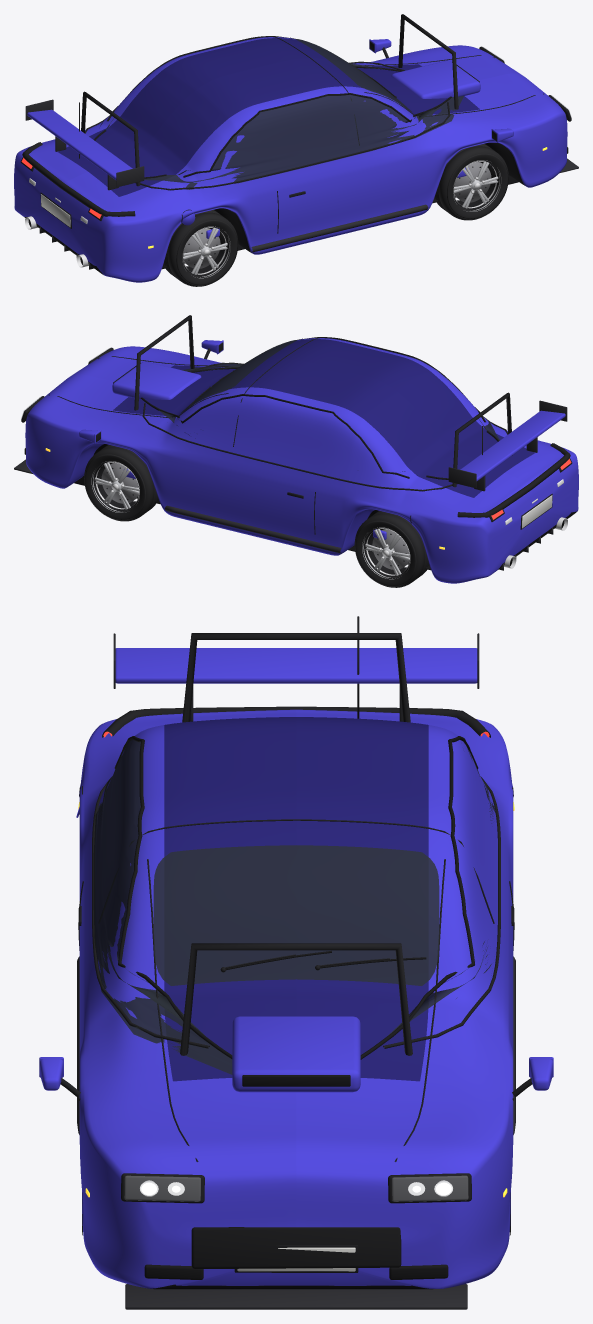
The picture shows the model from 3 angles, top to bottom: view 1: azimuth 30°, elevation 25°; view 2: azimuth 150°, elevation 25°; view 3: azimuth 270°, elevation 25°; orthographic projection. The views are drawn at different scales.
Visible parts, largest first — view 1: body, glass_side_R, wheel_FR_tyre, wheel_RR_tyre, bonnet_scoop, wing, side_skirt, glass_screen_0, tail_housing, roll_cage.001, belt_trim, seal_R (+8 smaller); view 2: body, wheel_RL_tyre, wheel_FL_tyre, bonnet_scoop, wing, side_skirt.001, glass_screen_0, tail_housing, roll_cage.001, belt_trim.001, seal_L, wheel_FL_disc (+7 smaller); view 3: body, glass_screen_0, wing, glass_side_R, bonnet_scoop, grille_back, splitter, roll_cage.001, roll_cage, tail_housing, head_housing, head_housing.001 (+7 smaller).
Boxes of the visible parts, box(x1,y1,x2,y2) form: body: box(14, 37, 567, 282); glass_side_R: box(144, 94, 463, 189); wheel_FR_tyre: box(434, 144, 508, 220); wheel_RR_tyre: box(163, 210, 238, 286); bonnet_scoop: box(391, 60, 480, 98); wing: box(27, 109, 132, 180); side_skirt: box(250, 204, 428, 252); glass_screen_0: box(295, 39, 411, 112); tail_housing: box(22, 142, 135, 216); roll_cage.001: box(398, 14, 458, 109); belt_trim: box(135, 102, 450, 190); seal_R: box(183, 93, 451, 177); body: box(25, 338, 578, 583); wheel_RL_tyre: box(354, 511, 429, 587); wheel_FL_tyre: box(84, 445, 158, 521); bonnet_scoop: box(112, 361, 201, 399); wing: box(460, 410, 565, 481); side_skirt.001: box(165, 505, 342, 553); glass_screen_0: box(181, 340, 297, 413); tail_housing: box(457, 443, 570, 517); roll_cage.001: box(134, 315, 194, 410); belt_trim.001: box(142, 403, 457, 491); seal_L: box(140, 394, 409, 478); wheel_FL_disc: box(101, 462, 138, 503); body: box(79, 709, 513, 1289); glass_screen_0: box(153, 845, 439, 985); wing: box(115, 648, 477, 683); glass_side_R: box(93, 739, 232, 1074); bonnet_scoop: box(232, 1016, 360, 1092); grille_back: box(191, 1227, 401, 1268); splitter: box(125, 1284, 467, 1309); roll_cage.001: box(180, 943, 412, 1055); roll_cage: box(182, 633, 410, 722); tail_housing: box(102, 706, 490, 737); head_housing: box(121, 1173, 204, 1203); head_housing.001: box(388, 1173, 471, 1203).
Bounding box in the file's own units: 4.52 × 1.39 × 2.08.
